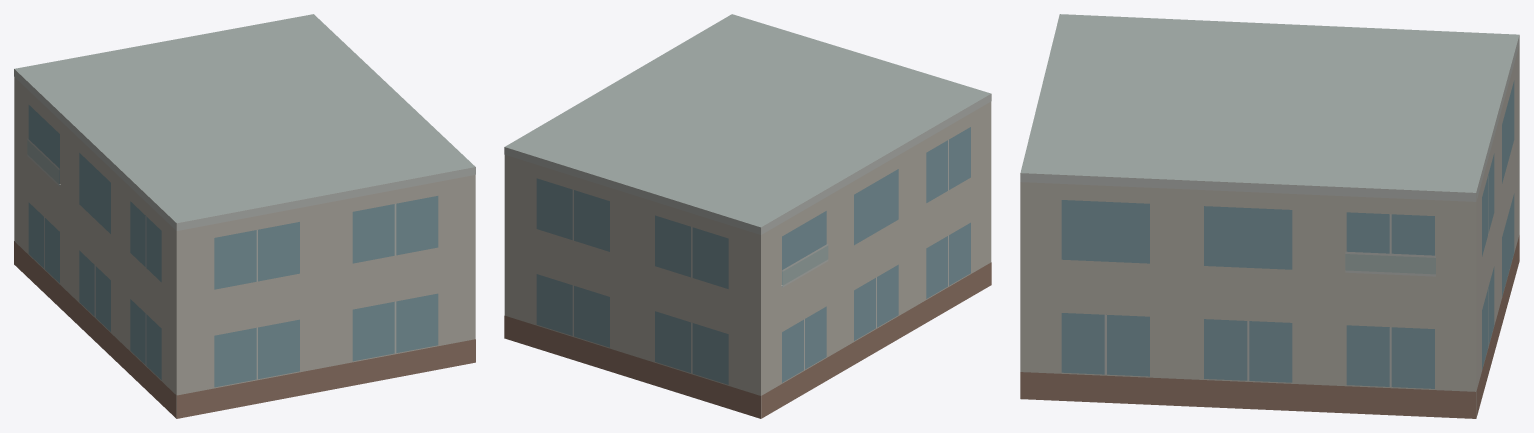
Rendered from survey-upis-32566577.glb.
3 views of the same model, side by side, from view 1: azimuth 30°, elevation 25°; view 2: azimuth 150°, elevation 25°; view 3: azimuth 270°, elevation 25° (orthographic). The views are drawn at different scales.
Visible parts, largest first — view 1: survey-upis-32566577.tmp; view 2: survey-upis-32566577.tmp; view 3: survey-upis-32566577.tmp.
Part boxes in pixels (x1=…): survey-upis-32566577.tmp: x1=14, y1=14, x2=475, y2=418; survey-upis-32566577.tmp: x1=504, y1=14, x2=991, y2=418; survey-upis-32566577.tmp: x1=1020, y1=14, x2=1519, y2=418.
Bounding box in the file's own units: 10.37 × 6.1 × 12.23.
